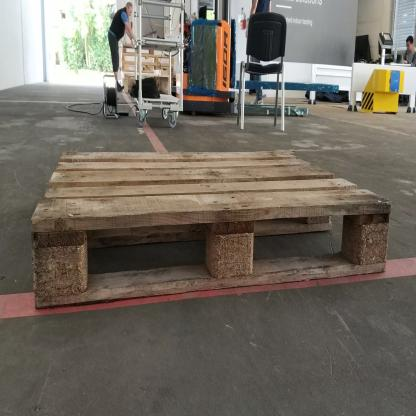BoxFace: (26, 146, 393, 314)
